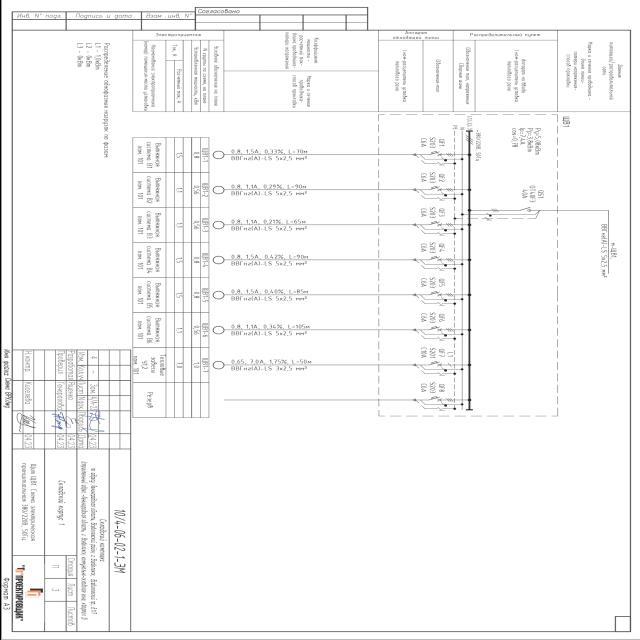-: (518, 185, 536, 203), (416, 276, 436, 288), (416, 136, 436, 148), (416, 171, 436, 183), (416, 242, 436, 254), (416, 311, 436, 323), (416, 382, 436, 394), (418, 346, 437, 358), (417, 206, 435, 218), (559, 116, 571, 128)
QF: (426, 395, 454, 403), (426, 325, 454, 333), (426, 290, 454, 298), (426, 220, 454, 228), (427, 150, 454, 158), (427, 255, 454, 262), (426, 185, 452, 192), (428, 361, 452, 367)
QW: (489, 206, 531, 212)
